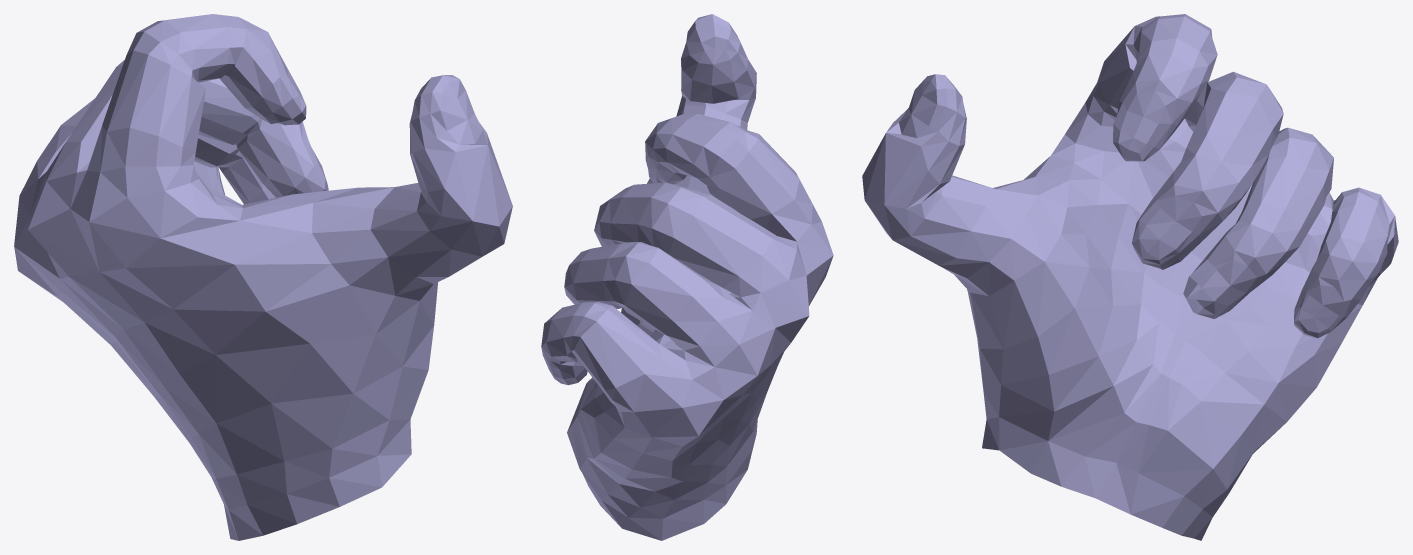
File: frame_0095_source_000095_hand.glb
3 views of the same model, side by side, from view 1: azimuth 30°, elevation 25°; view 2: azimuth 150°, elevation 25°; view 3: azimuth 270°, elevation 25° (orthographic). The views are drawn at different scales.
Parts seen in each view (by area): view 1: world; view 2: world; view 3: world.
Boxes of the visible parts, left/top/right/bottom form: world: left=14, top=14, right=512, bottom=540; world: left=541, top=14, right=833, bottom=540; world: left=862, top=14, right=1398, bottom=540.
Bounding box in the file's own units: 0.0742 × 0.1193 × 0.118.
